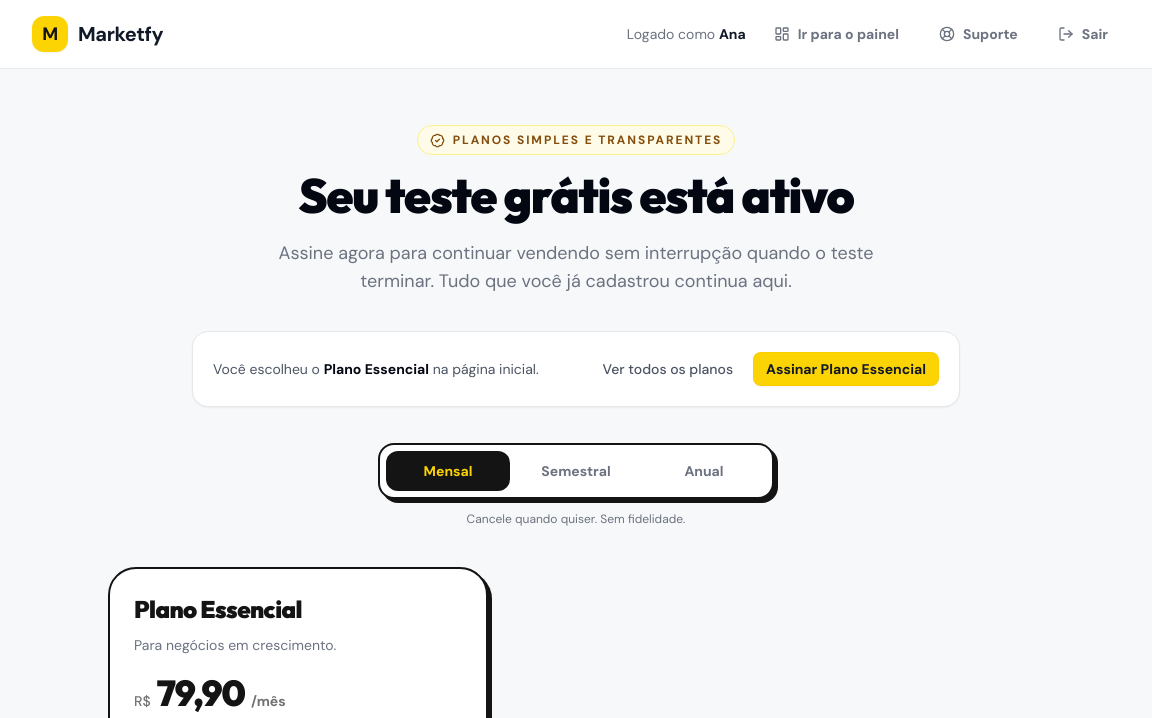
Plans › forgets the landing choice when the user wants to see every plan
Click the button "Ver todos os planos" at coordinates (668, 369), box [591,352,745,386]
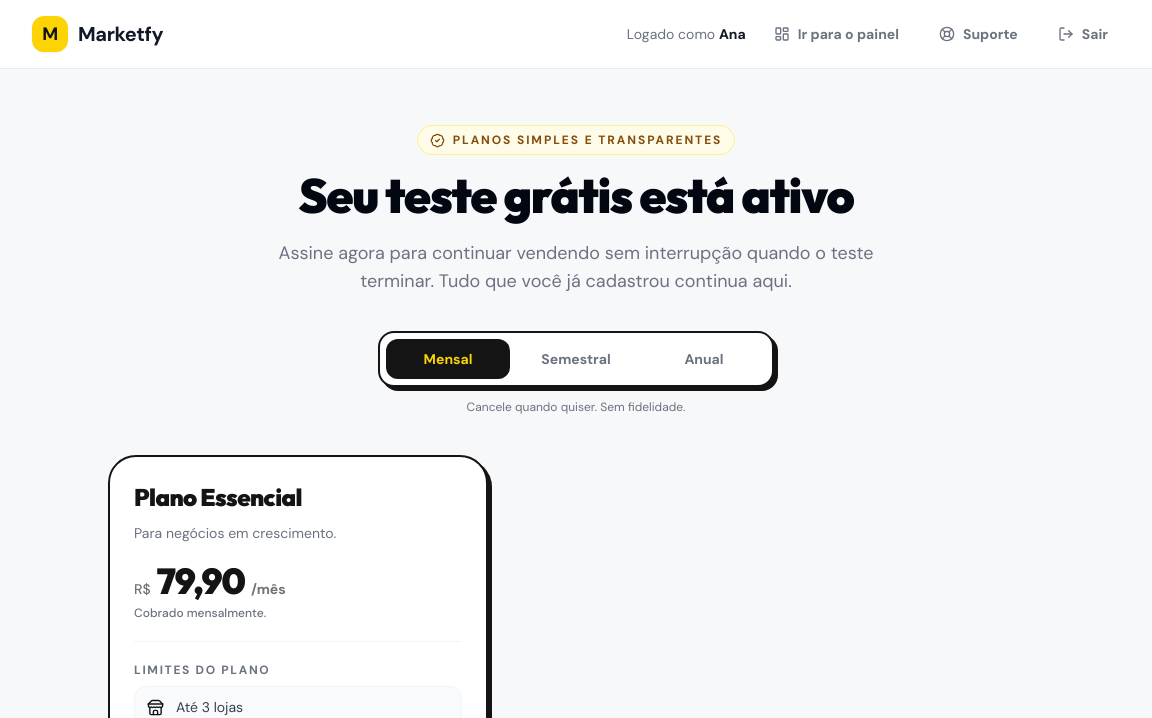
Expected: the text "Você escolheu o" is gone
